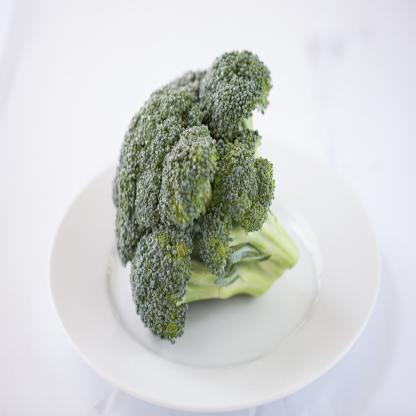broccoli: (112, 46, 299, 348)
